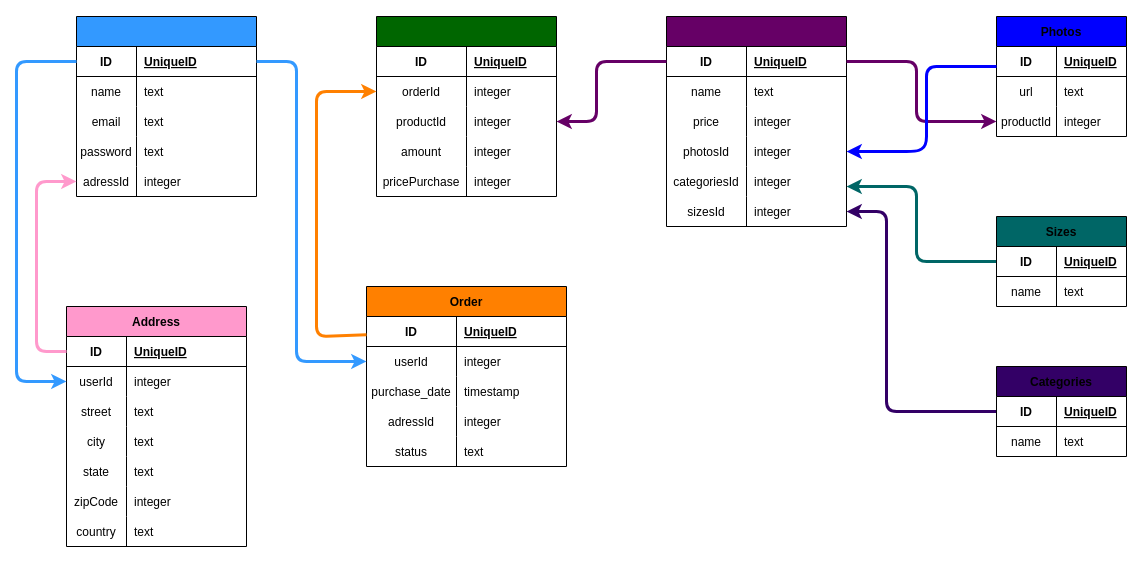
This 1143x563 diagram has some shape labels left out. The shapes that lost their labels are listed below. From the top down, each one's box as (x1, y1, x2, y2) in pixels, then its label:
(76, 16, 256, 196): Users
(376, 16, 556, 196): purchase_items
(666, 16, 846, 226): Products
